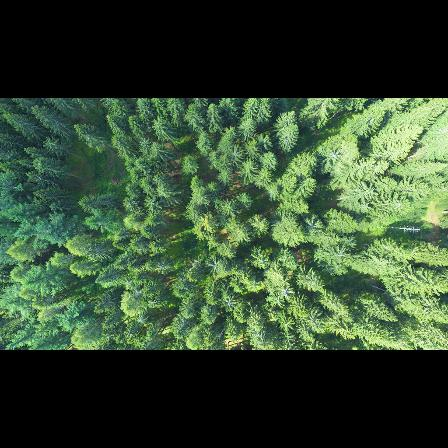Dead: (397, 219, 426, 237)
Sick: (301, 214, 328, 234), (219, 290, 242, 312), (204, 256, 228, 277), (224, 141, 245, 162), (133, 310, 151, 329), (279, 283, 296, 300), (122, 274, 137, 291), (146, 293, 161, 310)
